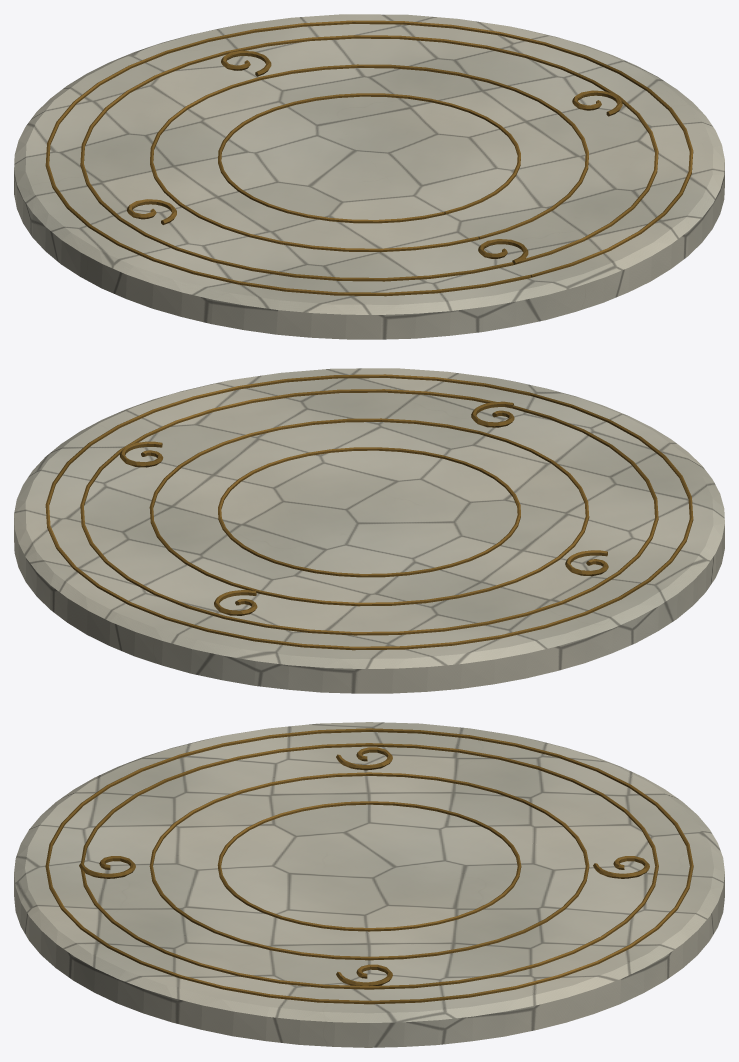
Rendered from t07_array_dais_lod1.fbx.
3 renders of one model, top to bottom at view 1: azimuth 30°, elevation 25°; view 2: azimuth 150°, elevation 25°; view 3: azimuth 270°, elevation 25°, orthographic.
Visible parts, largest first — view 1: t07_array_dais.005; view 2: t07_array_dais.005; view 3: t07_array_dais.005.
Part boxes in pixels (box(x1,y1,x2,y2)): t07_array_dais.005: box(14, 14, 724, 339); t07_array_dais.005: box(14, 368, 724, 693); t07_array_dais.005: box(14, 722, 724, 1047).
Size of the model in its own units: 51172 by 51172 by 2787.
